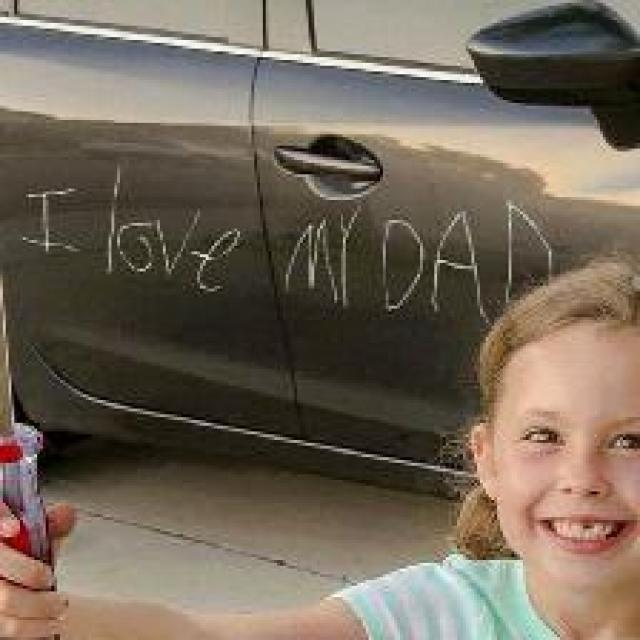damaged: (22, 171, 558, 323)
